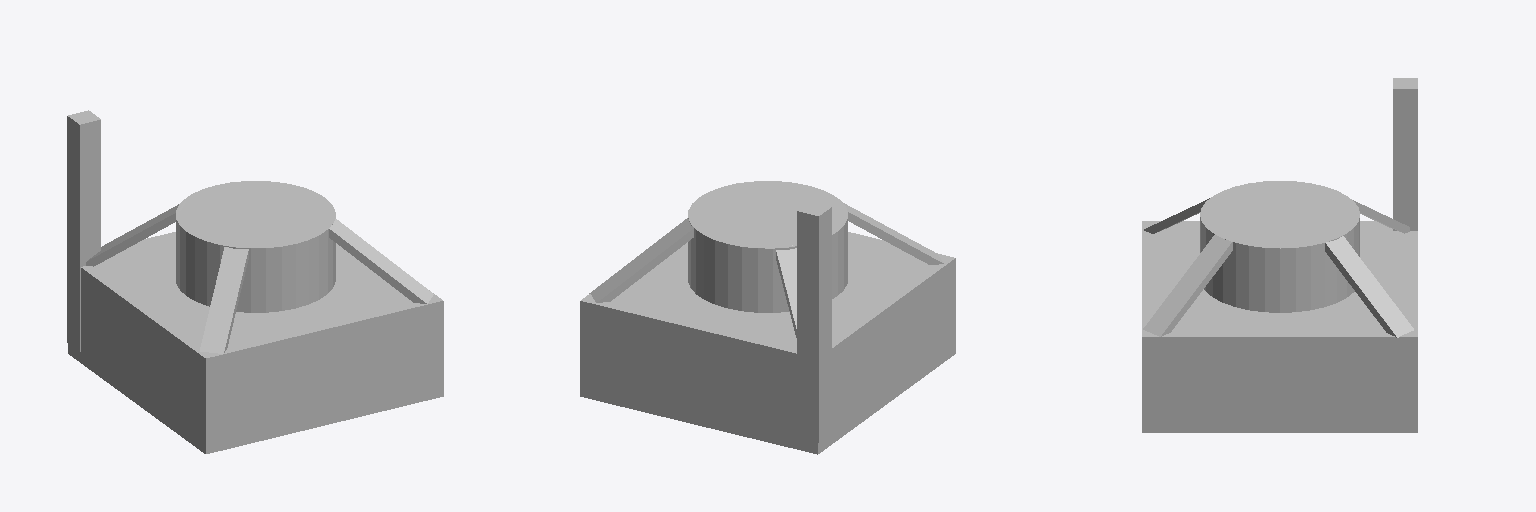
File: enariasAltar3.obj
3 views of the same model, side by side, from view 1: azimuth 30°, elevation 25°; view 2: azimuth 150°, elevation 25°; view 3: azimuth 270°, elevation 25° (orthographic).
Parts seen in each view (by area): view 1: Base_5, Cylinder, HeightPole_3, Arm1_25.006, Arm4_25, Arm2_25.005; view 2: Base_5, Cylinder, HeightPole_3, Arm3_25.004, Arm1_25.006, Arm2_25.005; view 3: Base_5, Cylinder, HeightPole_3, Arm4_25, Arm3_25.004, Arm1_25.006, Arm2_25.005.
Boxes of the visible parts, x1,y1,x2,y2 form: Base_5: [68, 232, 443, 453]; Cylinder: [176, 181, 335, 312]; HeightPole_3: [67, 110, 100, 351]; Arm1_25.006: [200, 245, 248, 353]; Arm4_25: [328, 218, 433, 303]; Arm2_25.005: [86, 201, 185, 266]; Base_5: [580, 232, 955, 454]; Cylinder: [688, 181, 847, 312]; HeightPole_3: [797, 202, 831, 442]; Arm3_25.004: [589, 217, 695, 302]; Arm1_25.006: [838, 201, 943, 264]; Arm2_25.005: [775, 244, 796, 337]; Base_5: [1142, 221, 1417, 432]; Cylinder: [1200, 181, 1359, 312]; HeightPole_3: [1393, 78, 1417, 230]; Arm4_25: [1143, 234, 1233, 336]; Arm3_25.004: [1325, 235, 1413, 337]; Arm1_25.006: [1144, 188, 1233, 233]; Arm2_25.005: [1325, 188, 1409, 233].
Bounding box in the file's own units: 1.11 × 1.05 × 1.1.